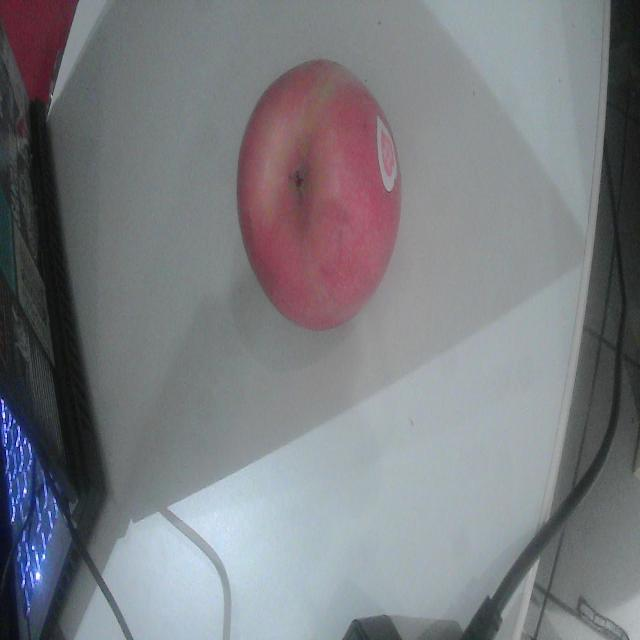Apple: (238, 60, 401, 330)
